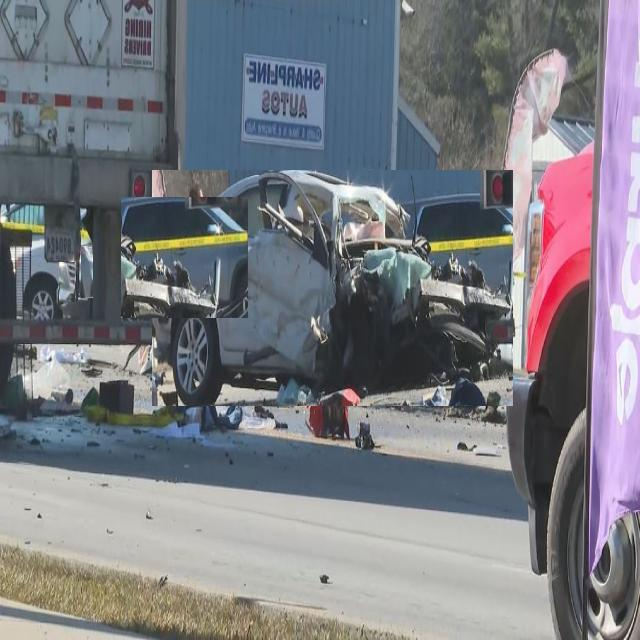accident: (152, 171, 512, 406)
car: (121, 198, 248, 318), (59, 262, 75, 302), (81, 246, 92, 298)
